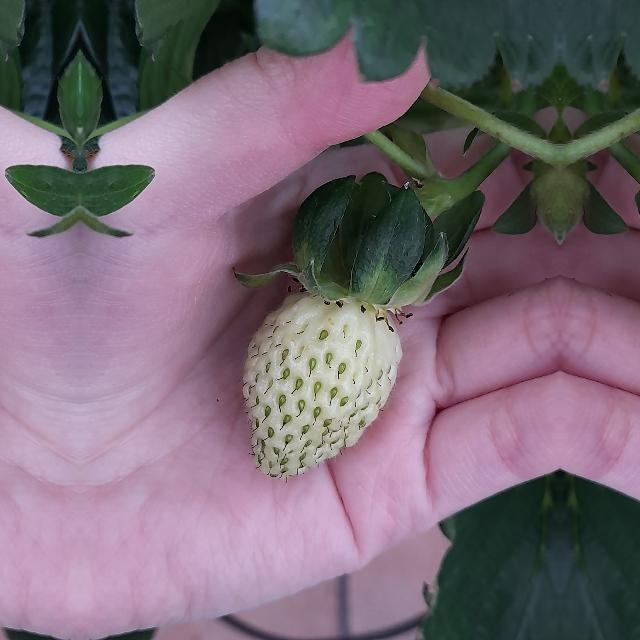Health_25: (243, 292, 402, 478)
